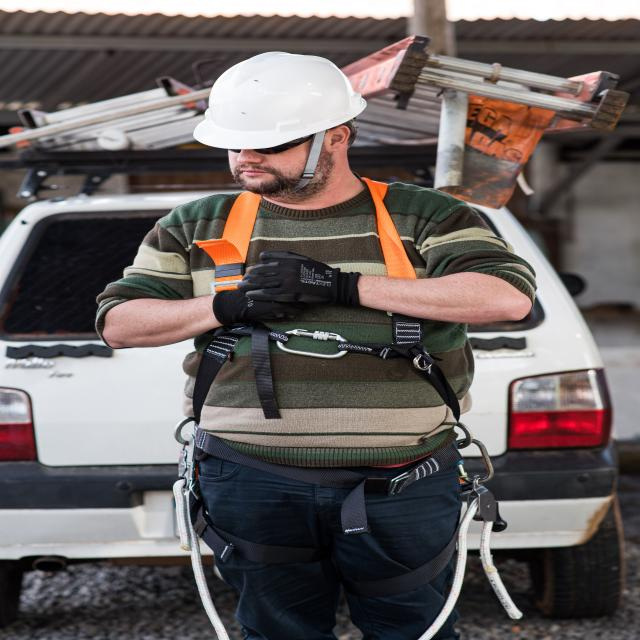capacete: (188, 47, 373, 155)
corda de vida: (163, 174, 514, 586)
luva: (232, 247, 368, 315), (210, 280, 302, 330)
